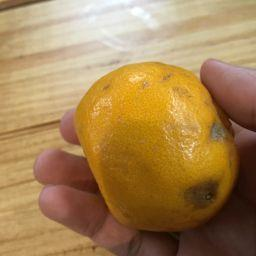Unripe: (79, 63, 237, 228)
